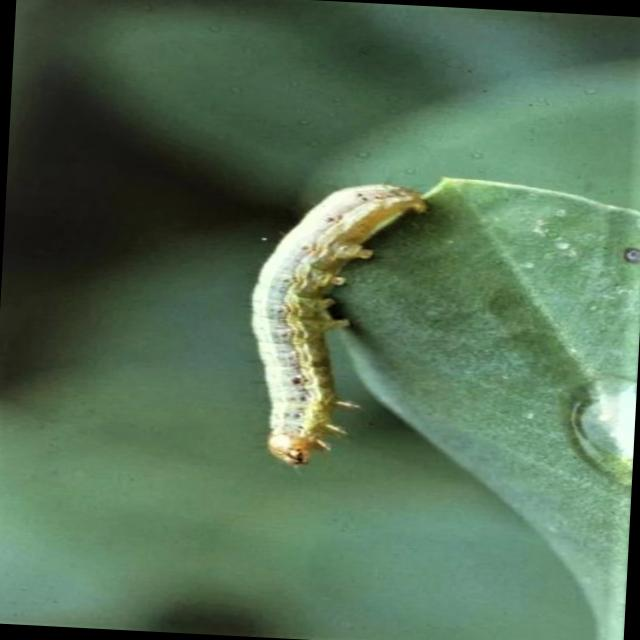Armyworm: (223, 177, 457, 501)
